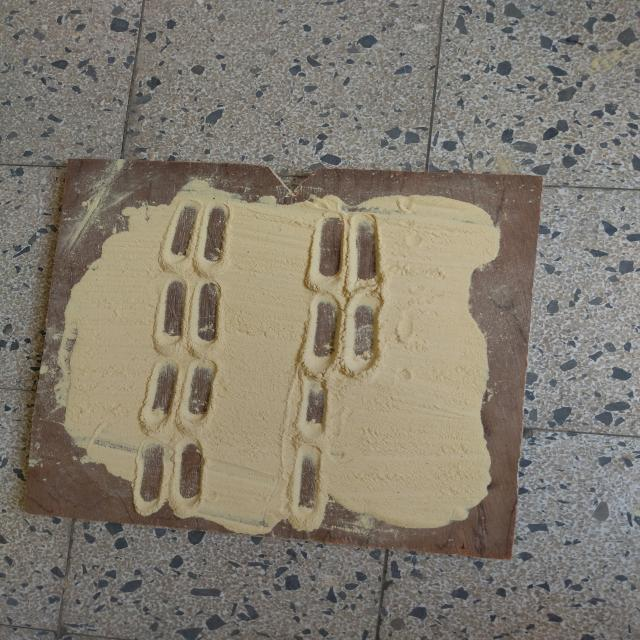double: (296, 292, 388, 374), (302, 214, 391, 296), (129, 434, 211, 519), (138, 354, 222, 430), (158, 202, 236, 276), (154, 275, 228, 353)
single: (280, 441, 332, 534), (290, 366, 338, 444)
